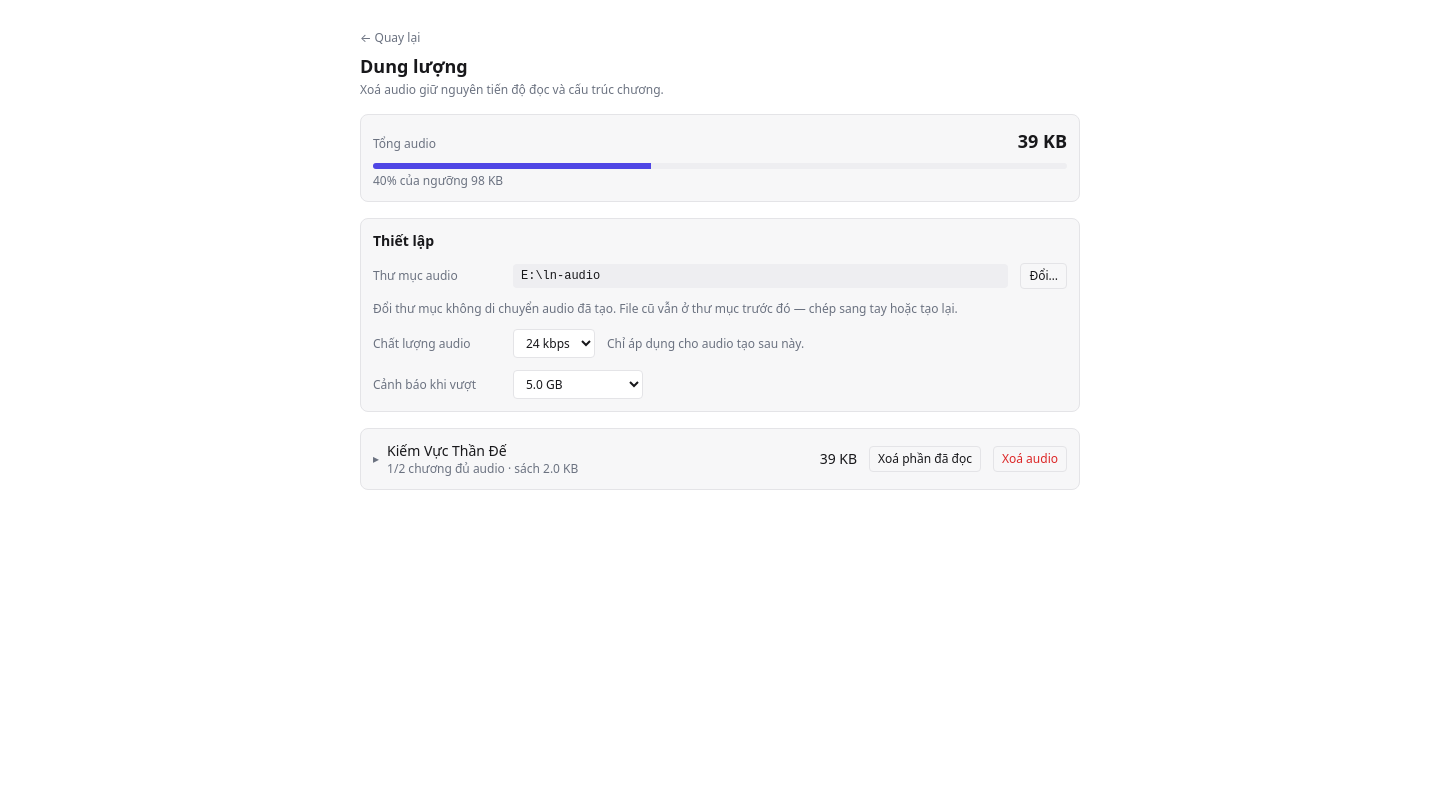
Test case: cửa xác nhận xoá › bấm xoá chương cũng phải qua hộp xác nhận
Click the button "▸ Kiếm Vực Thần Đế 1/2 chương đủ audio · sách 2.0 KB". click: (447, 450)
box: [373, 441, 808, 477]
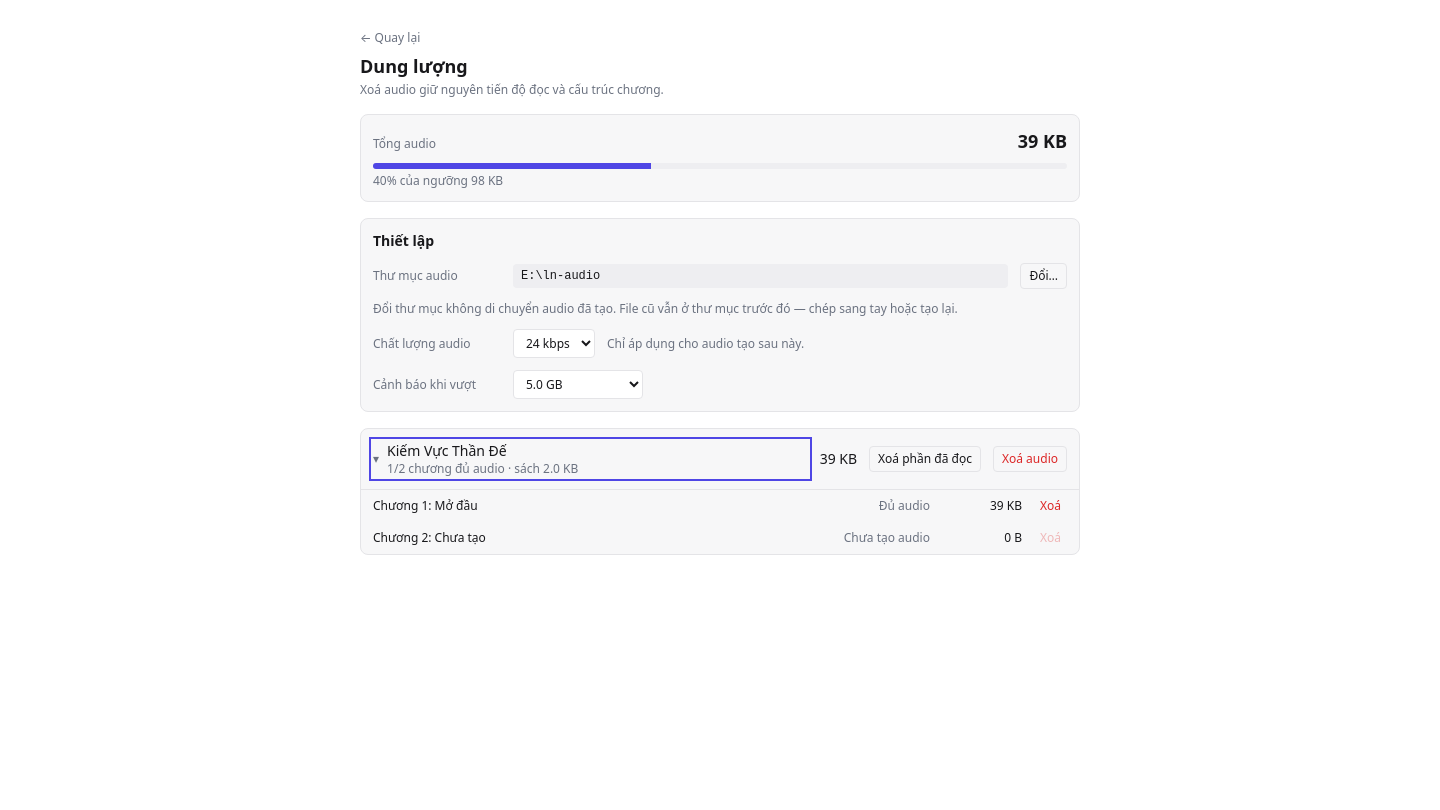
Now the list item with test id "storage-chapter-book-1-c1" is shown, box [361, 490, 1079, 522]
Click the button with test id "storage-delete-chapter-book-1-c1". click: (1050, 506)
box: [1034, 496, 1067, 516]
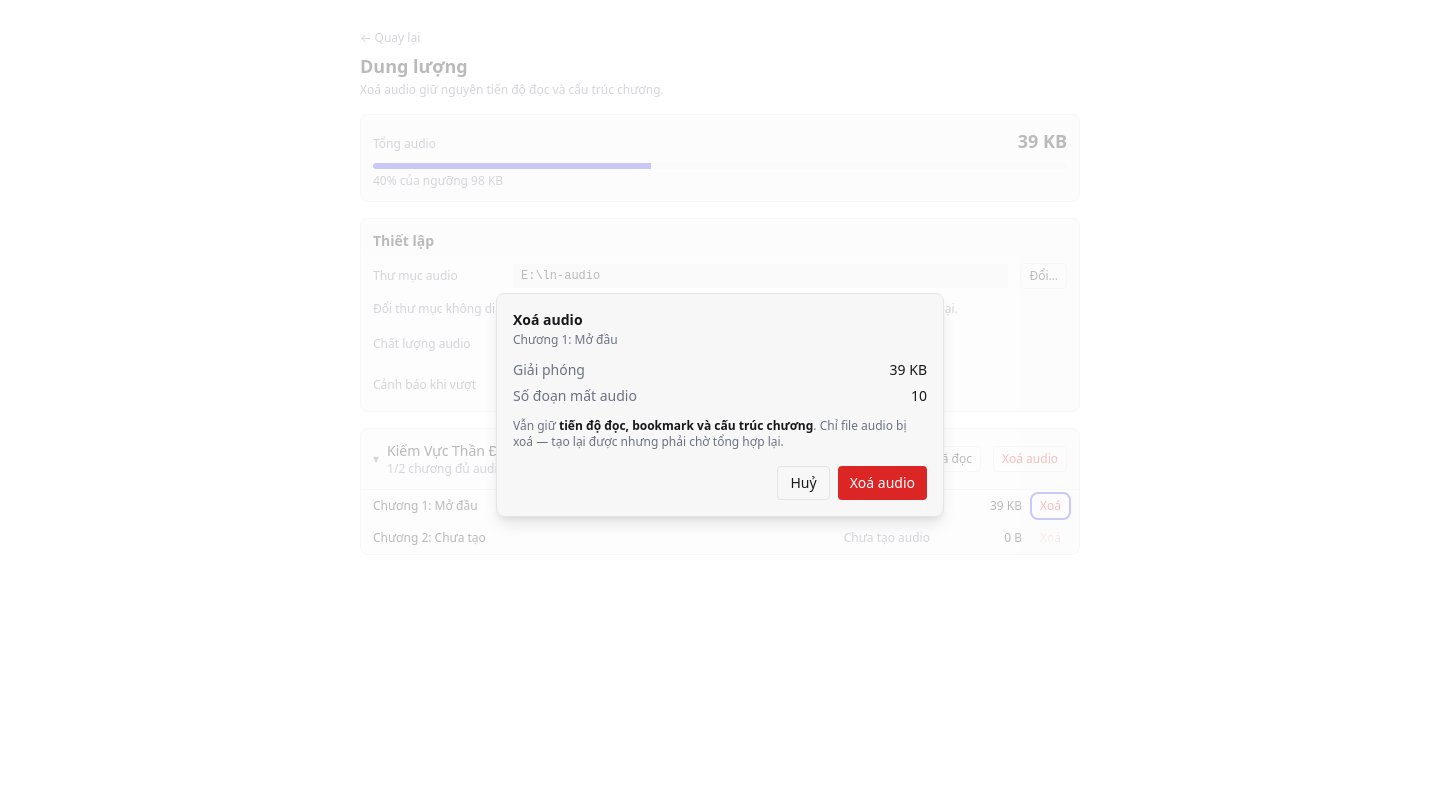
Now the dialog with test id "delete-audio-dialog" is shown
